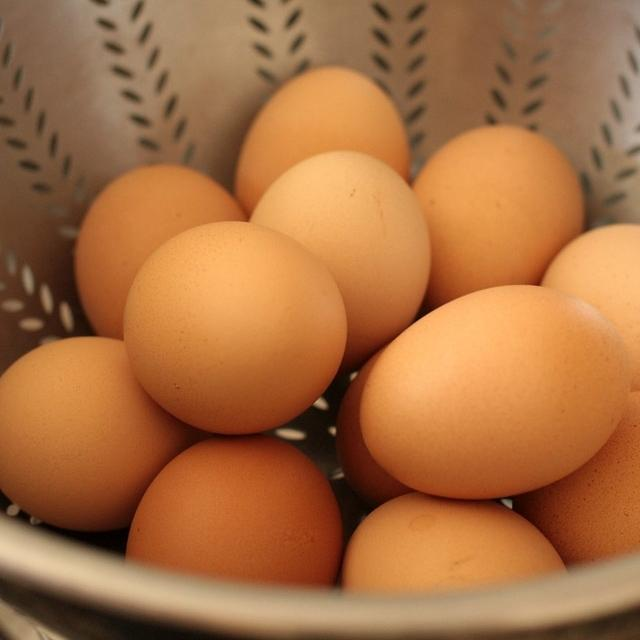egg: (358, 282, 631, 498), (122, 218, 348, 434), (248, 148, 432, 370), (0, 334, 190, 530), (125, 434, 342, 586), (411, 122, 585, 308), (73, 162, 246, 338), (234, 64, 411, 214), (342, 492, 568, 594), (514, 387, 640, 565), (540, 221, 640, 402)
